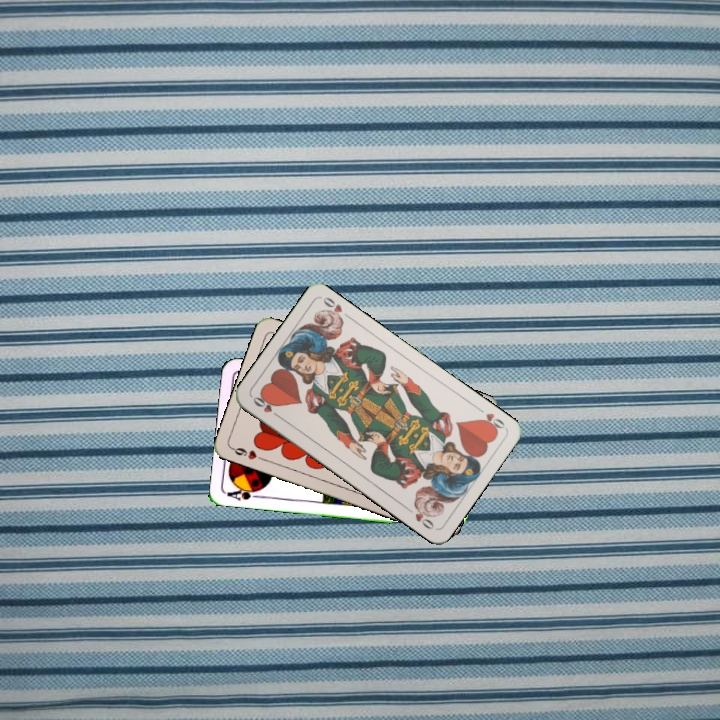H9: (228, 443, 267, 463)
HO: (472, 403, 508, 435), (249, 392, 284, 421)
SA: (223, 483, 265, 503)
